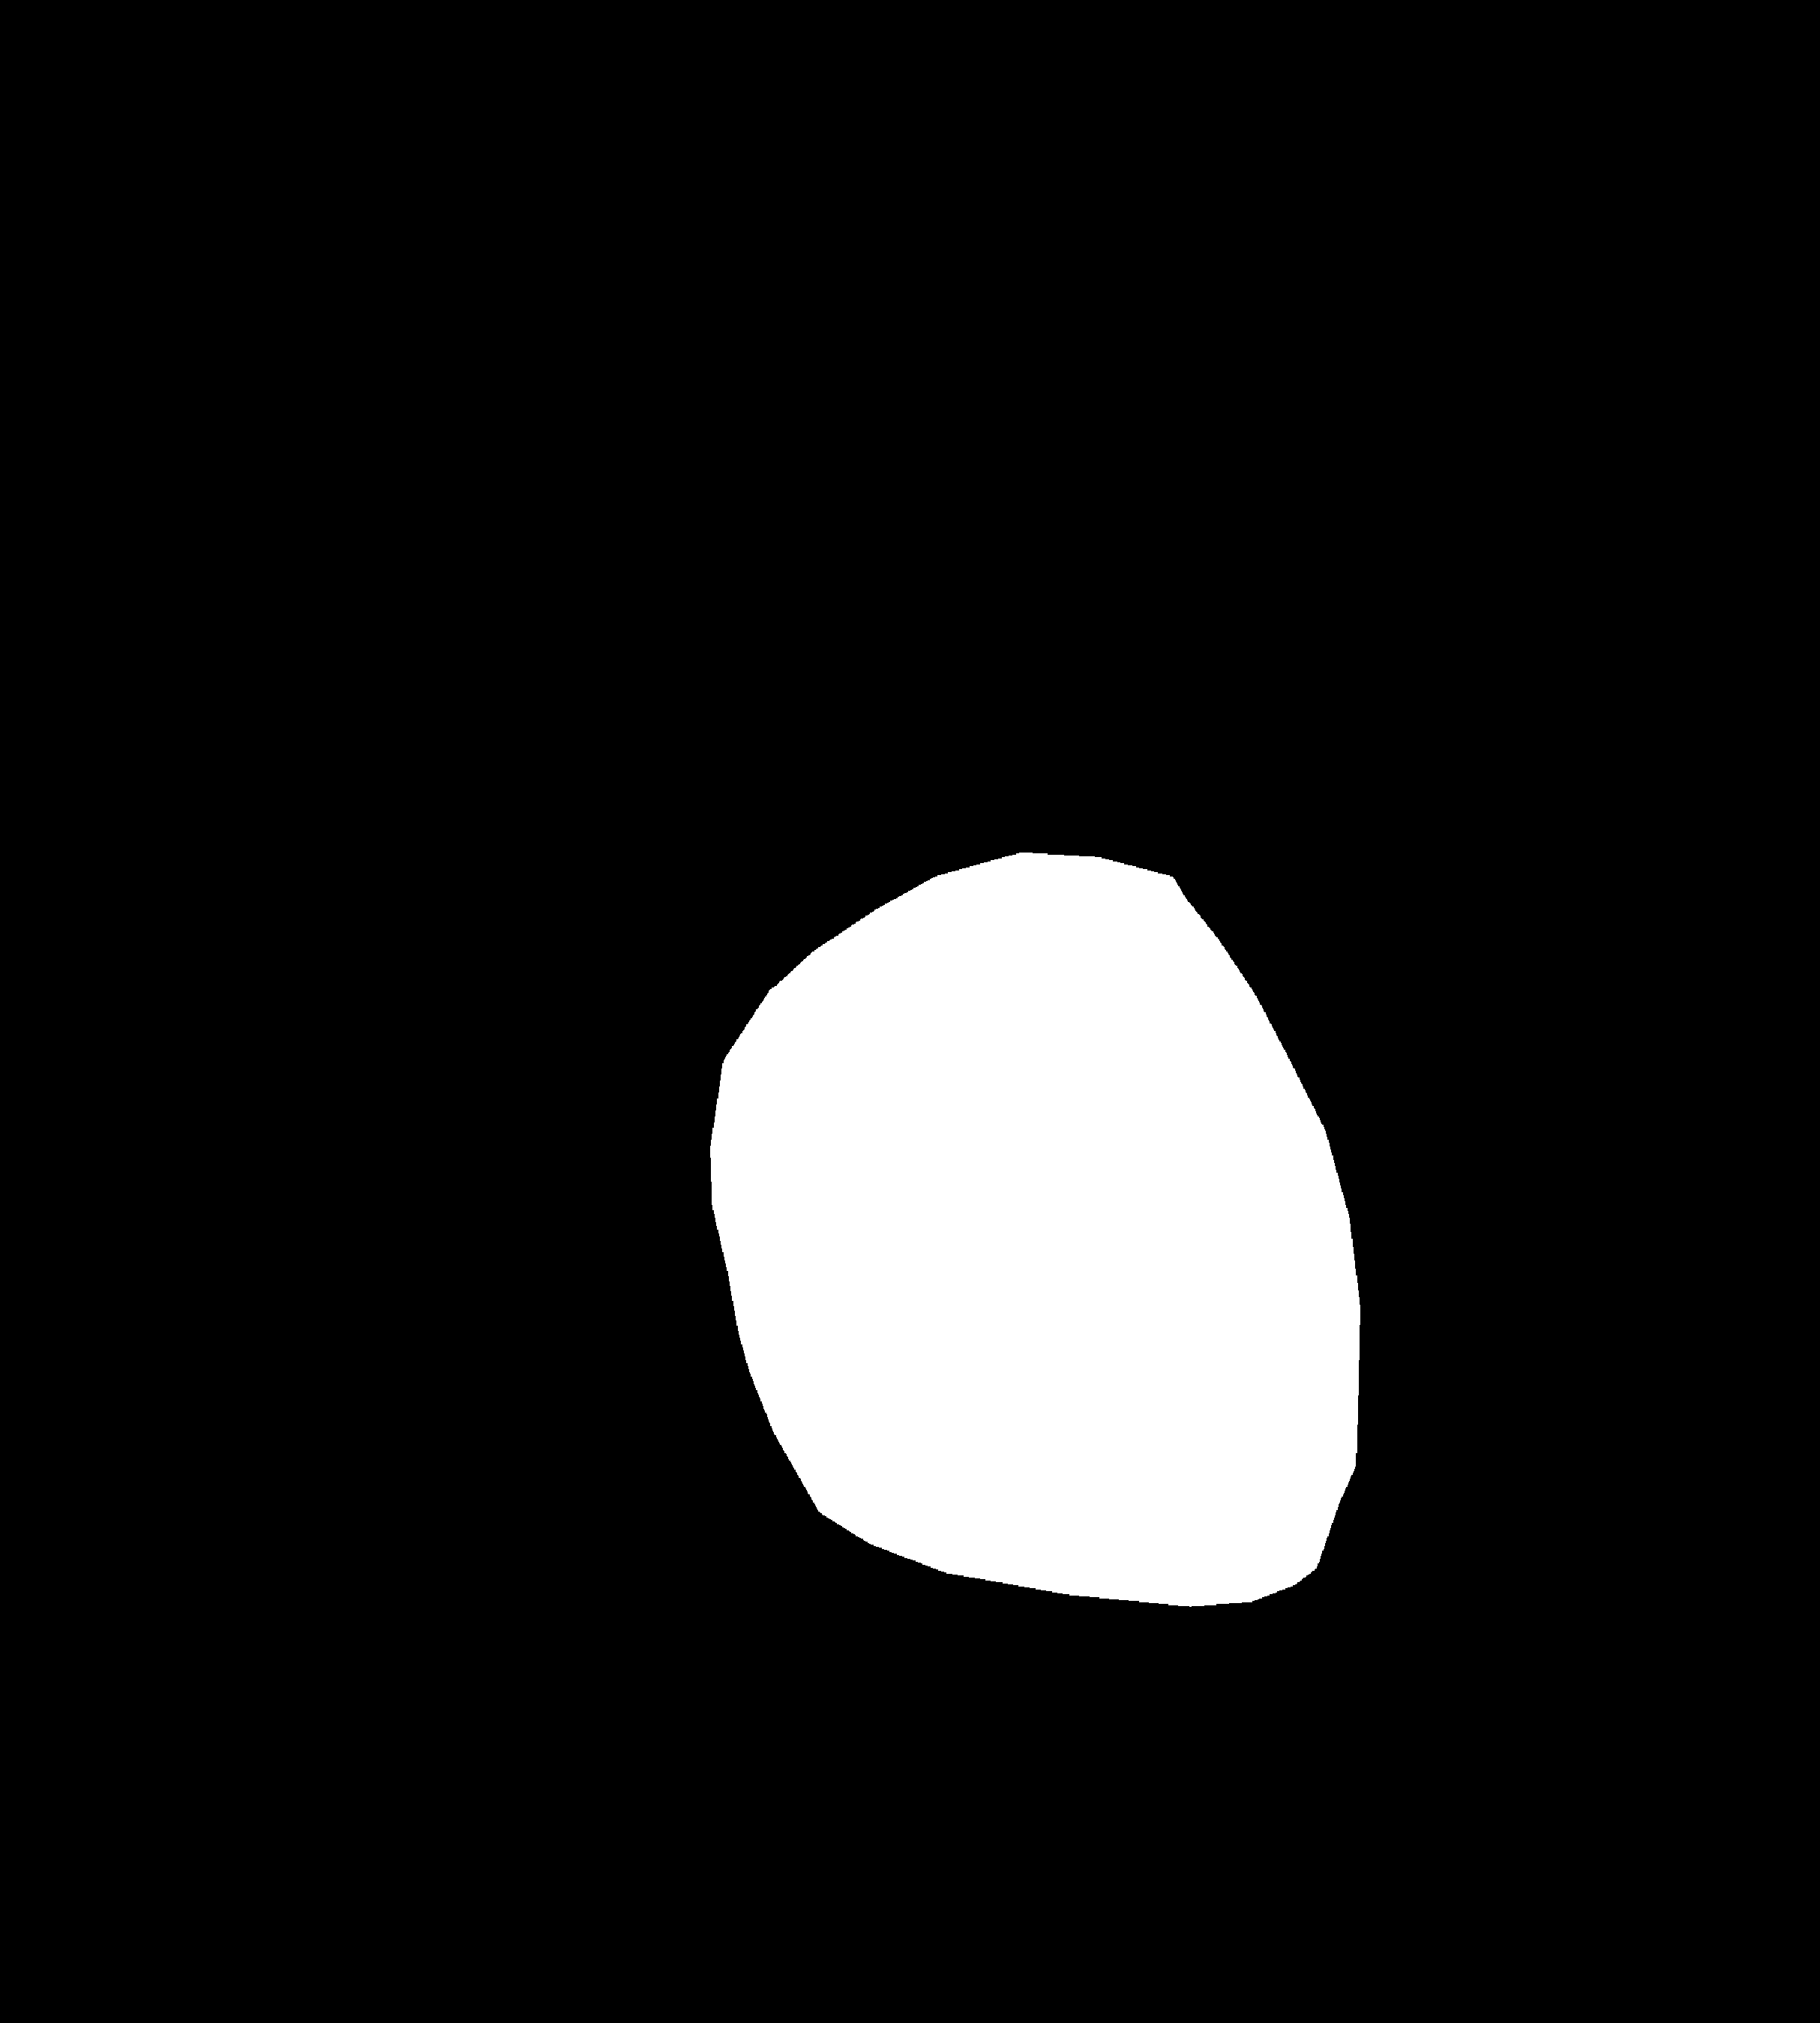heart: (713, 934, 1361, 1617)
left_lung: (216, 251, 870, 1890)
right_lung: (1035, 276, 1658, 1919)
